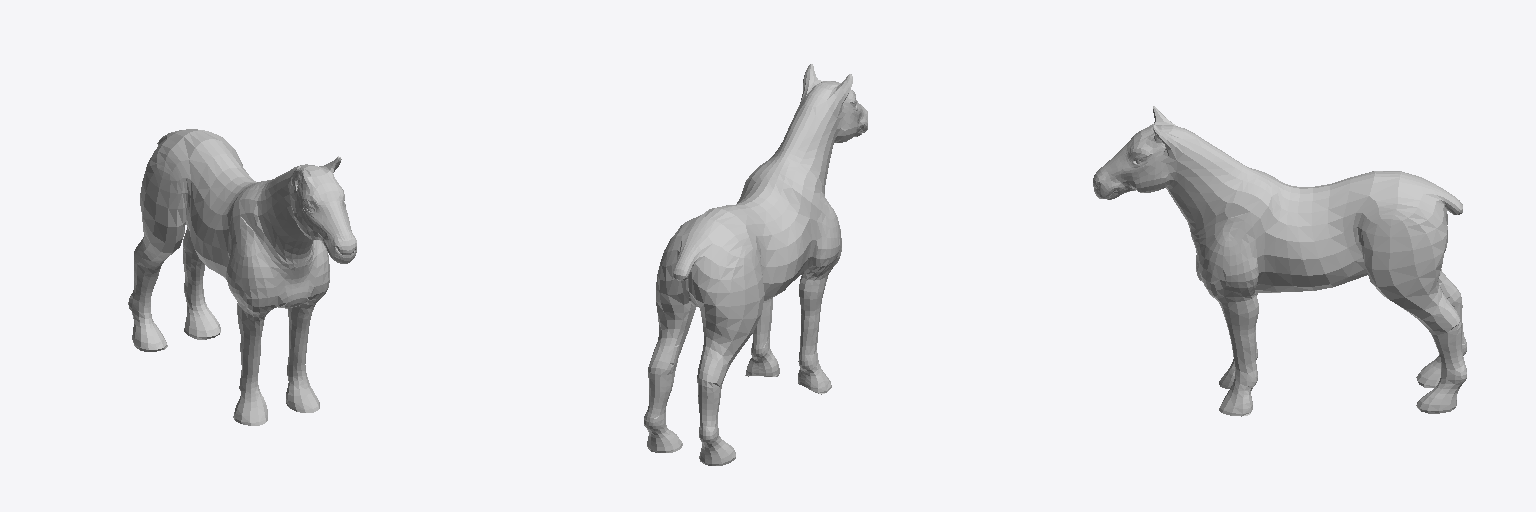
Rendered from horse.obj.
3 renders of one model, left to right at view 1: azimuth 30°, elevation 25°; view 2: azimuth 150°, elevation 25°; view 3: azimuth 270°, elevation 25°, orthographic.
Parts seen in each view (by area): view 1: Plane.001; view 2: Plane.001; view 3: Plane.001.
Boxes of the visible parts, <box> form: Plane.001: <box>128,129,356,425</box>; Plane.001: <box>644,64,867,465</box>; Plane.001: <box>1093,106,1466,416</box>.
Bounding box in the file's own units: 0.4938 × 1.44 × 1.73.